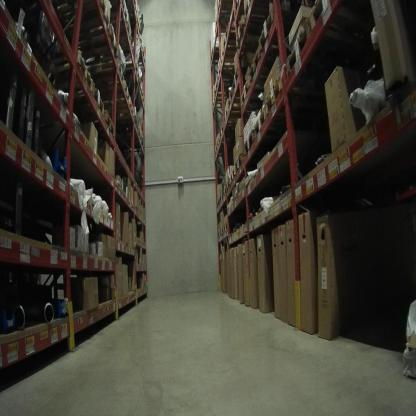pallet: (284, 17, 366, 84), (309, 1, 380, 42), (249, 42, 306, 90), (239, 77, 292, 125), (55, 24, 117, 65), (38, 48, 95, 92), (257, 10, 314, 53), (46, 82, 109, 116), (52, 1, 113, 33), (226, 69, 262, 114), (67, 110, 116, 142), (266, 81, 302, 114), (87, 63, 126, 89), (100, 96, 134, 122), (99, 85, 131, 107), (211, 81, 243, 103), (215, 63, 244, 87), (219, 124, 249, 140), (222, 110, 254, 125), (243, 127, 257, 159), (254, 108, 265, 141), (216, 136, 233, 155), (236, 153, 245, 175), (215, 196, 222, 212), (231, 168, 237, 185), (226, 176, 232, 193), (223, 182, 229, 199), (220, 192, 224, 202)
